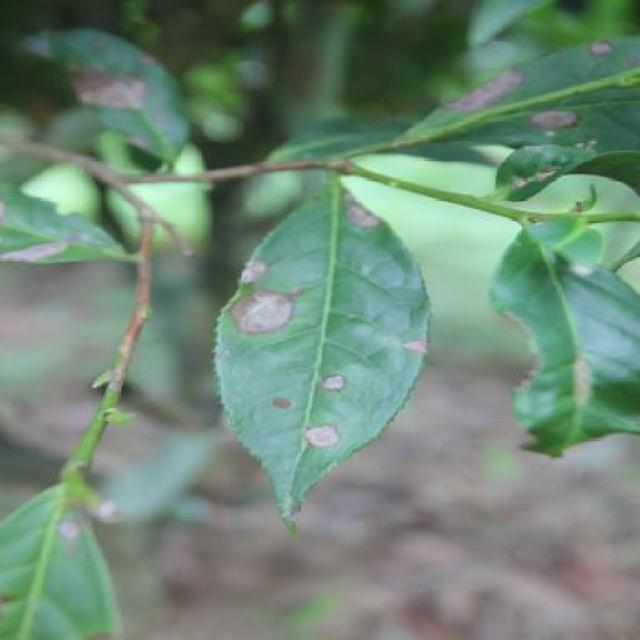Leaf rust of tea: (223, 144, 431, 522)
